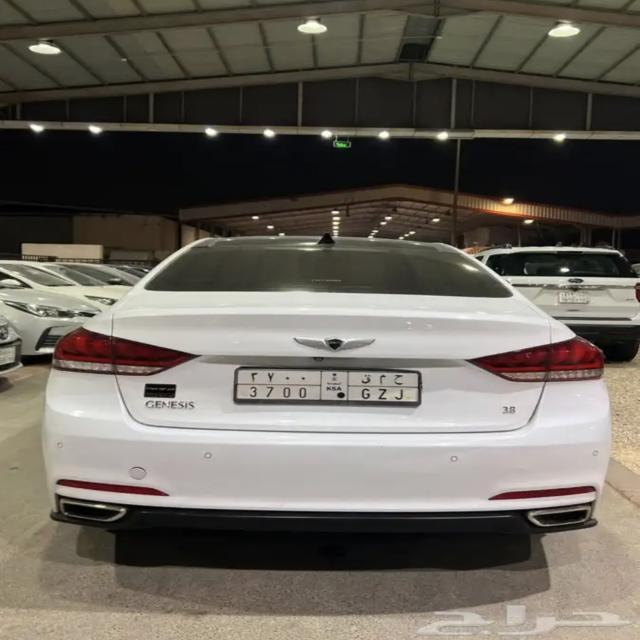license_plate: (232, 368, 423, 408)
